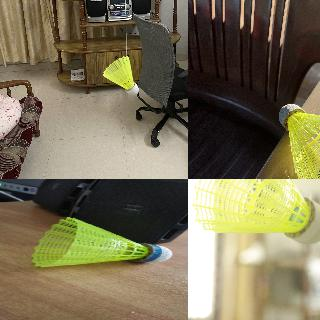shuttlecock: (192, 179, 319, 243), (32, 216, 172, 267), (278, 103, 319, 178), (102, 56, 138, 94)
